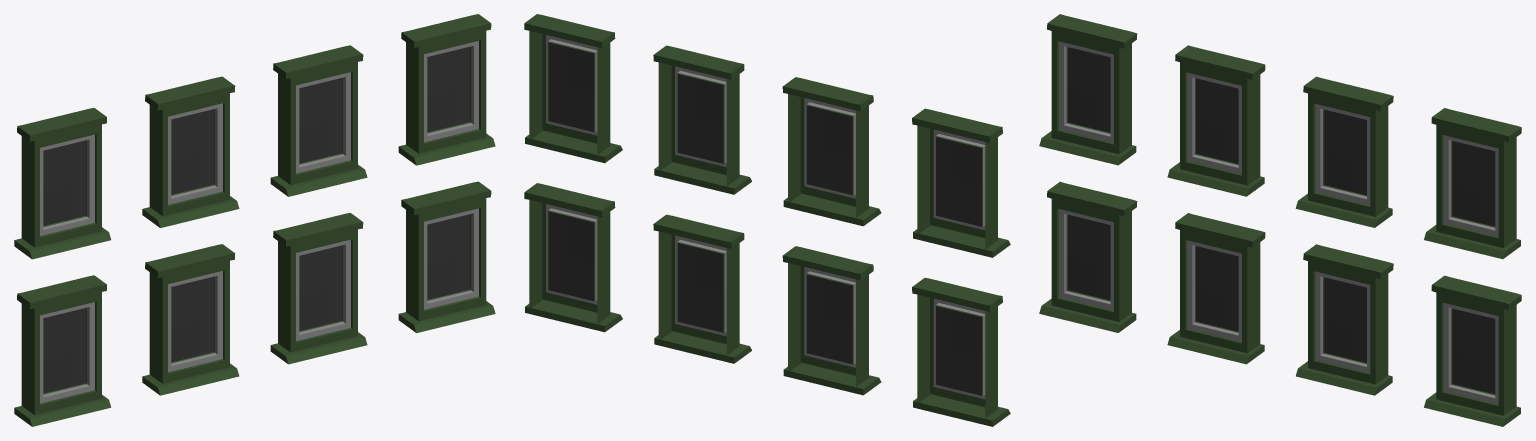
3 views of the same model, side by side, from view 1: azimuth 30°, elevation 25°; view 2: azimuth 150°, elevation 25°; view 3: azimuth 330°, elevation 25° (orthographic).
Visible parts, largest first — view 1: Cube; view 2: Cube; view 3: Cube.
Boxes of the visible parts, x1,y1,x2,y2 form: Cube: [14, 14, 495, 426]; Cube: [524, 14, 1010, 426]; Cube: [1039, 14, 1521, 426].
Size of the model in its own units: 1228 by 726 by 82.08.
